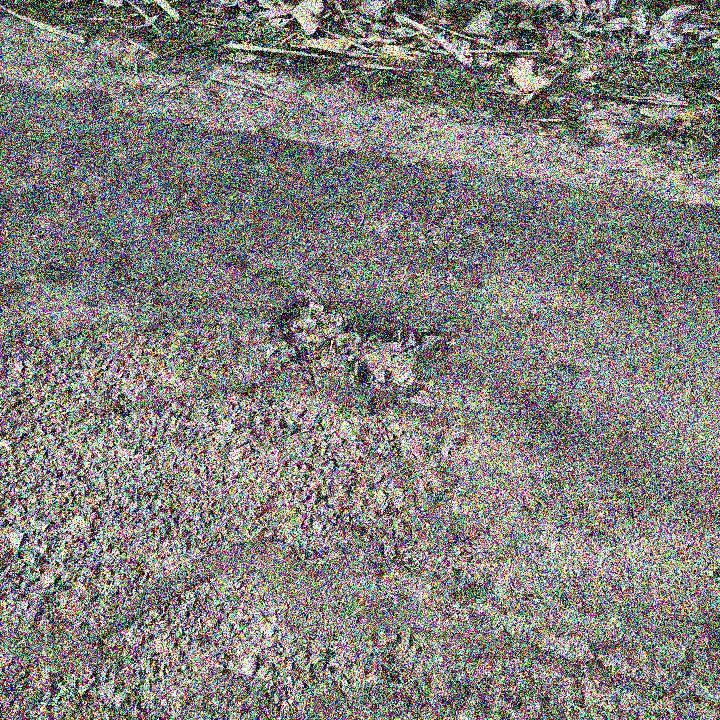pothole: (273, 295, 436, 390)
